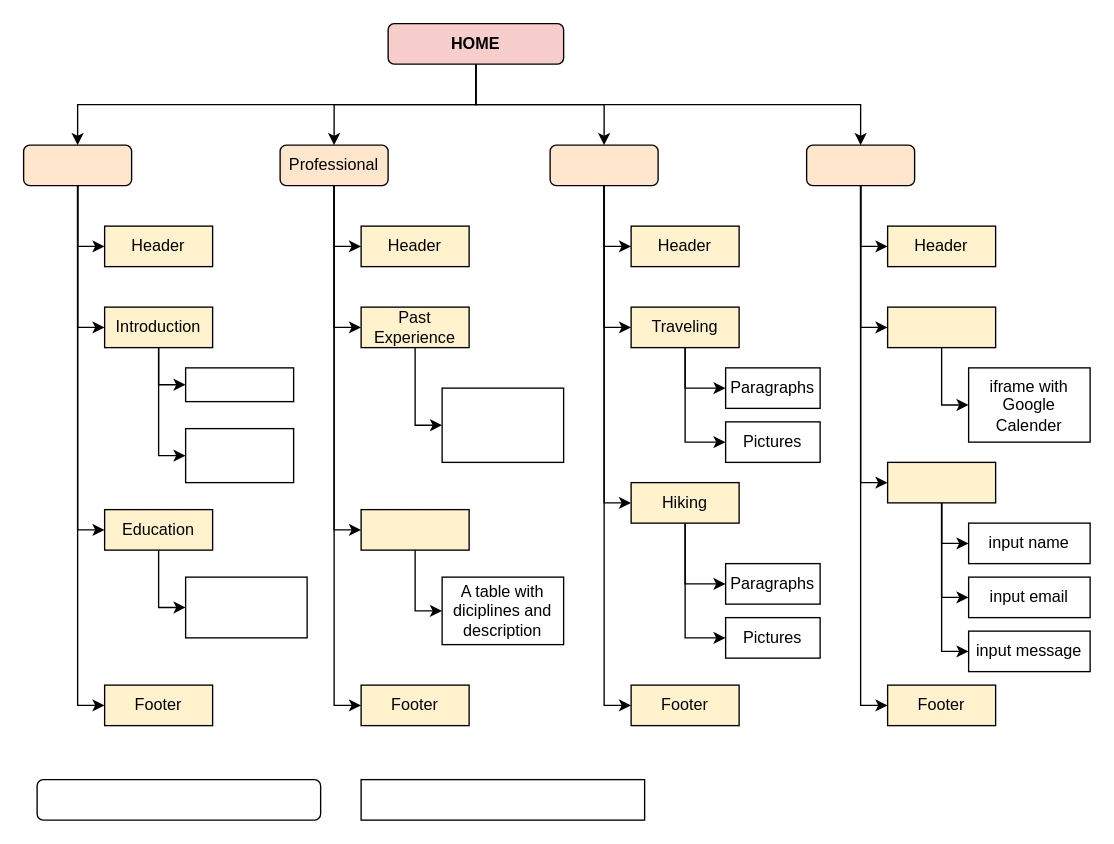
Some shapes in this 1114 by 844 pixel diagram are drawn without their labels. The centre of each missing label's shape, as x and y in pixels:
"A table with job title and description" goes at pixel 502 424.
"About Me" goes at pixel 77 165.
"Contact Me" goes at pixel 860 165.
"Courses Taken" goes at pixel 414 529.
"Form" goes at pixel 941 482.
"List of Schools and Description" goes at pixel 245 607.
"My Schedule" goes at pixel 941 327.
"Personal" goes at pixel 603 165.
"Picture" goes at pixel 239 384.
"Rounded Corner: Separate Page" goes at pixel 178 799.
"Sharp Corner: Sections/Subsections" goes at pixel 502 799.
"Short Description" goes at pixel 239 455.
